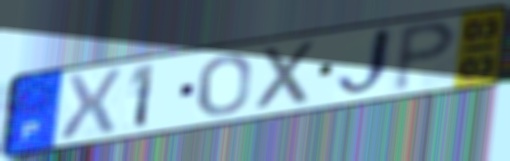1: (127, 60, 157, 133)
J: (333, 24, 396, 103)
O: (196, 52, 254, 119)
P: (389, 19, 461, 96)
X: (56, 66, 124, 145), (254, 37, 321, 115)
